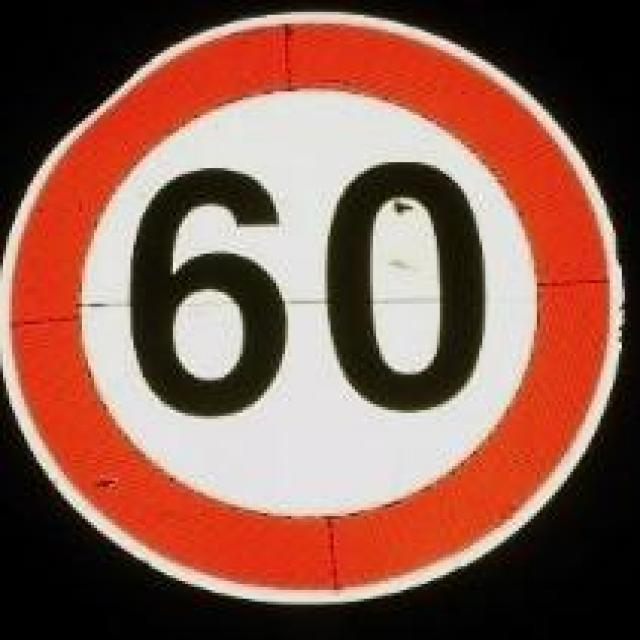Ograniczenie predkosci do 60: (3, 0, 619, 605)
